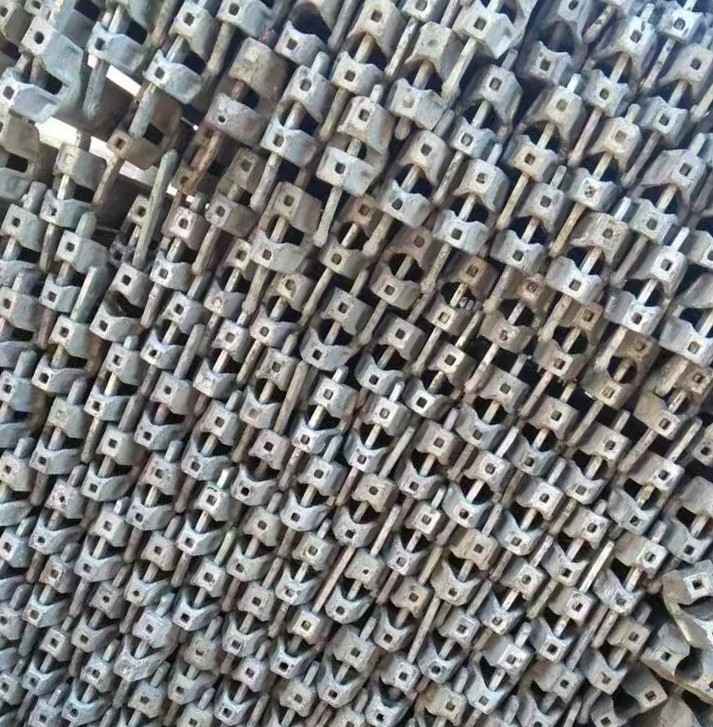THsquare_steel: (641, 634, 713, 703), (92, 264, 154, 342), (275, 1, 343, 65), (94, 265, 147, 339), (661, 564, 713, 634)
THsquare_steel_blocked: (565, 117, 646, 213), (389, 19, 460, 124), (583, 18, 657, 116), (315, 97, 388, 194), (504, 86, 576, 184), (262, 69, 335, 160), (375, 130, 447, 221), (644, 42, 710, 141), (1, 16, 65, 117), (562, 212, 636, 299), (439, 158, 507, 250), (480, 272, 555, 354), (497, 178, 563, 271), (370, 219, 440, 306), (337, 2, 406, 90), (451, 64, 517, 156), (618, 240, 684, 330), (204, 145, 268, 234), (633, 147, 694, 240), (248, 181, 313, 268), (525, 1, 593, 84), (147, 1, 208, 93), (299, 287, 365, 372), (459, 369, 528, 450), (429, 252, 495, 334), (614, 452, 680, 534), (320, 192, 383, 277), (444, 450, 513, 527), (431, 532, 502, 606), (593, 538, 664, 611), (407, 342, 473, 418), (240, 348, 300, 431), (504, 477, 567, 556), (562, 424, 625, 502), (182, 398, 241, 481), (594, 334, 657, 411), (249, 273, 315, 346), (333, 474, 397, 549), (369, 578, 433, 653), (645, 363, 709, 438), (478, 563, 545, 634), (465, 640, 531, 712), (344, 395, 406, 471), (546, 303, 608, 379), (147, 207, 207, 285), (139, 291, 198, 369), (289, 381, 352, 454), (39, 140, 91, 228), (279, 457, 339, 533), (359, 318, 421, 391), (533, 592, 595, 664), (587, 620, 647, 694), (81, 347, 142, 419), (318, 629, 374, 707), (273, 533, 333, 605), (520, 398, 576, 474), (39, 234, 94, 311), (194, 322, 252, 395), (323, 550, 381, 623), (549, 512, 607, 585), (218, 582, 274, 657), (398, 421, 454, 496), (421, 610, 481, 680), (225, 506, 279, 583), (202, 240, 258, 314), (382, 502, 439, 574), (231, 430, 286, 504), (365, 658, 423, 727), (172, 482, 226, 556), (33, 314, 84, 392), (668, 274, 713, 362), (211, 658, 270, 725), (58, 657, 115, 726), (81, 425, 131, 502), (104, 192, 156, 266), (128, 454, 180, 528), (134, 374, 185, 449), (168, 561, 224, 629), (73, 509, 123, 585), (118, 609, 170, 682), (68, 587, 125, 653), (269, 608, 321, 680), (86, 2, 143, 66), (165, 637, 218, 705), (517, 665, 575, 727), (32, 398, 78, 474), (675, 474, 713, 566), (28, 483, 77, 554), (589, 682, 666, 727), (22, 556, 70, 627), (129, 535, 173, 606), (16, 627, 64, 692), (1, 204, 34, 286), (265, 680, 317, 727), (461, 1, 528, 37), (417, 685, 470, 727)
